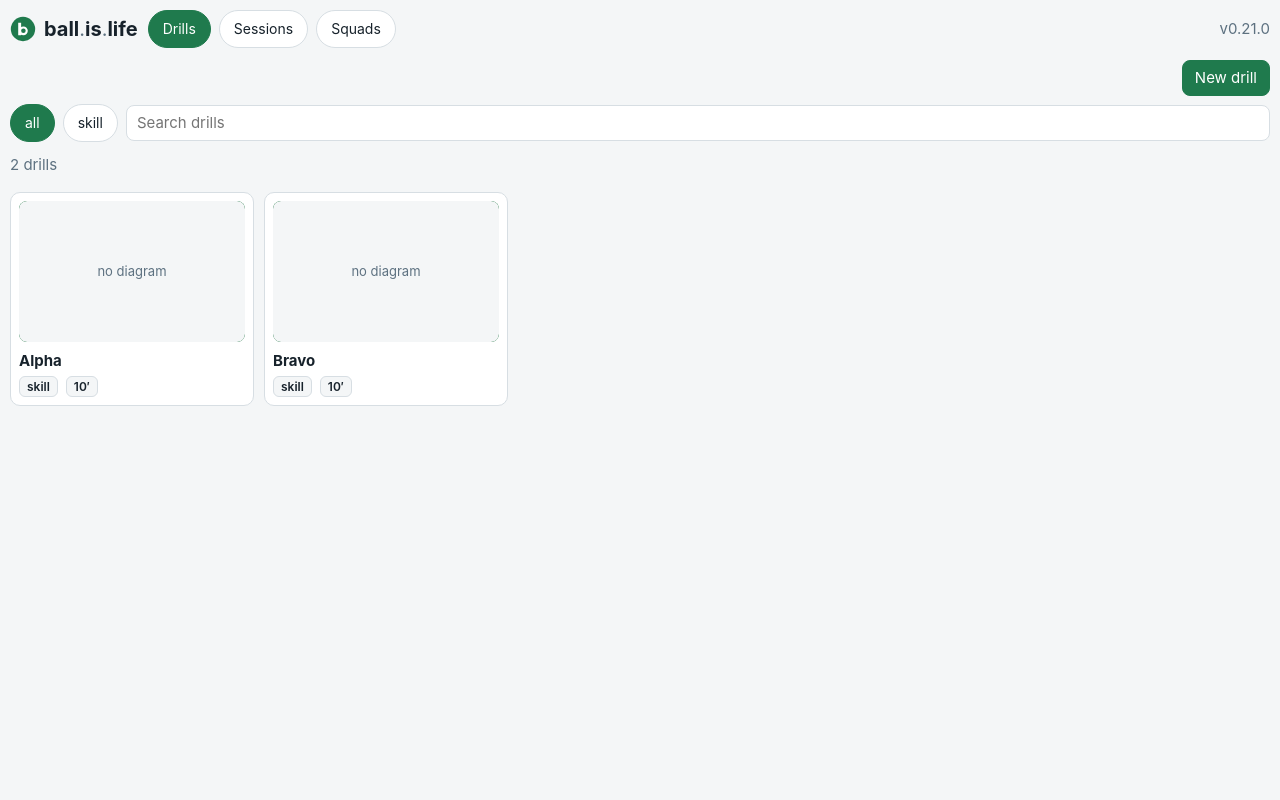
App session run mode › a drill that fails to load says so for that block only, leaving the rest usable
This screenshot has width=1280, height=800.
Step 1. Click the button "Sessions" → click(264, 29), box [219, 10, 308, 48]
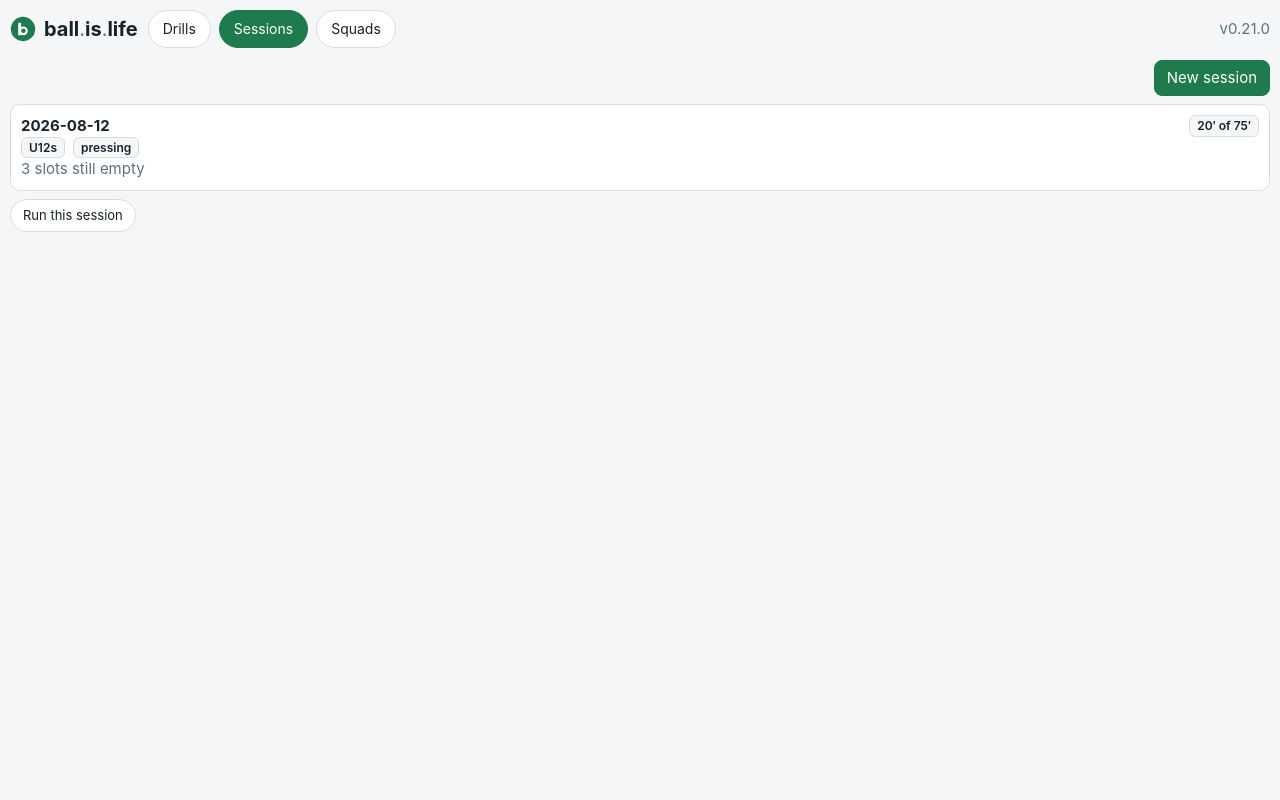
Step 2. Click the button "2026-08-12 20′ of 75′ U12s pressing 3 slots still empty" → click(65, 126), box [10, 104, 1270, 191]
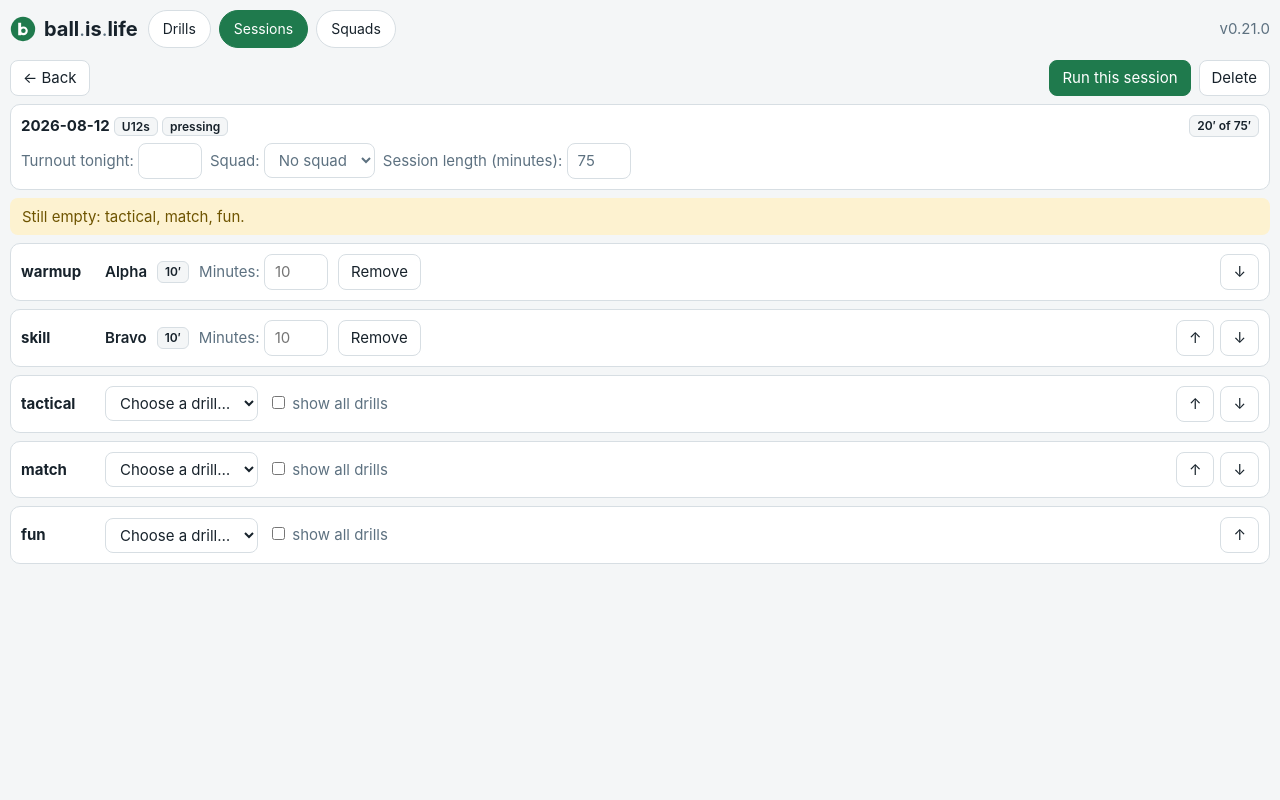
Step 3. Click the button "Run this session" → click(1120, 78), box [1049, 60, 1190, 96]
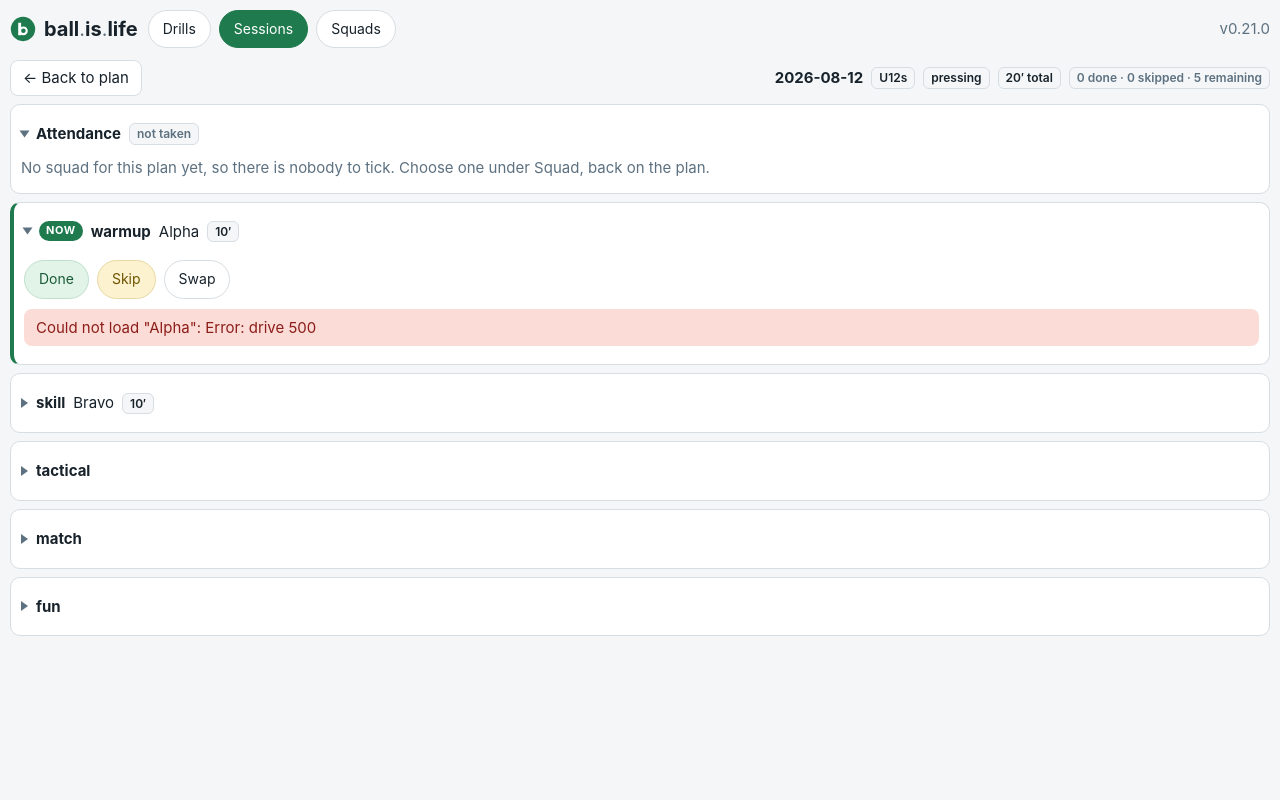
expect the text "Could not load \"Alpha\": Error: drive 500" is shown: met, box [24, 309, 1259, 346]
Step 4. Click the button with class "run-block-summary" showing "skill Bravo 10′" → click(94, 403), box [21, 384, 1251, 422]
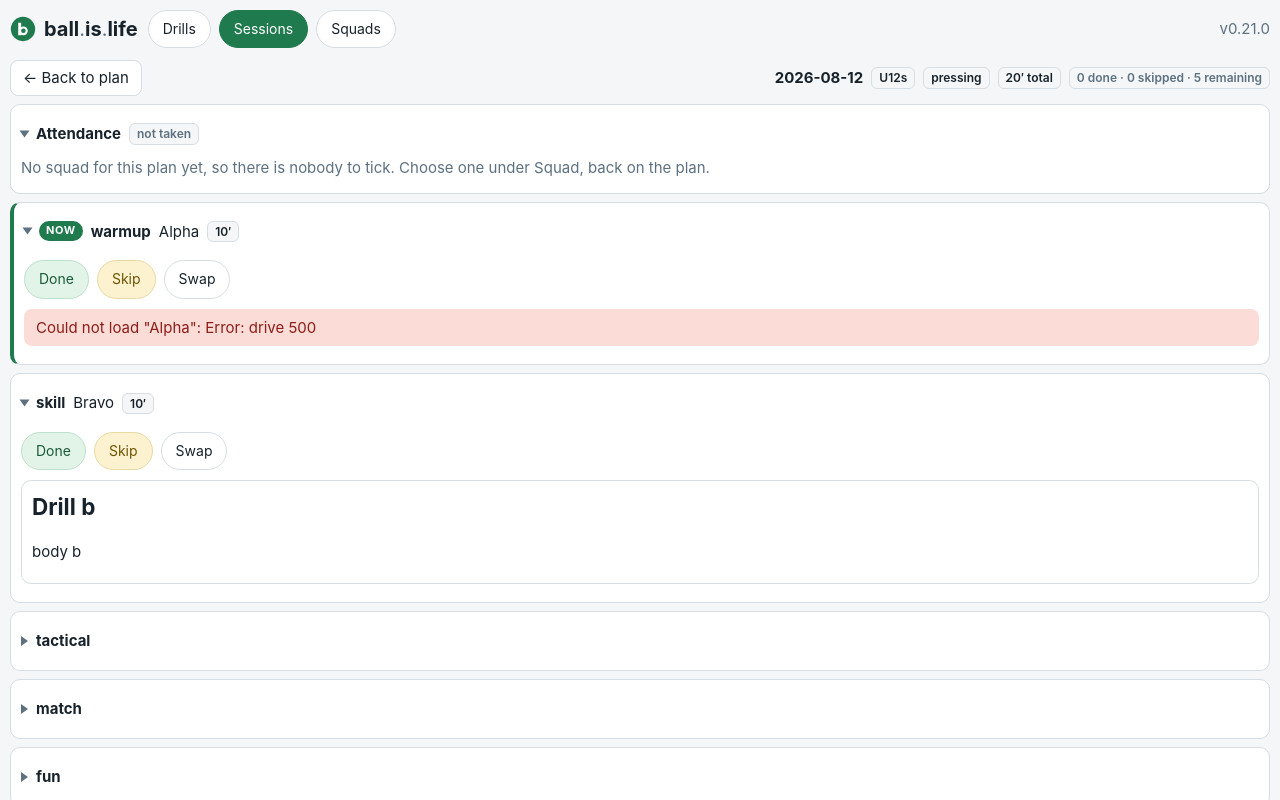
expect the text "body b" is shown: met, box [32, 542, 81, 561]
